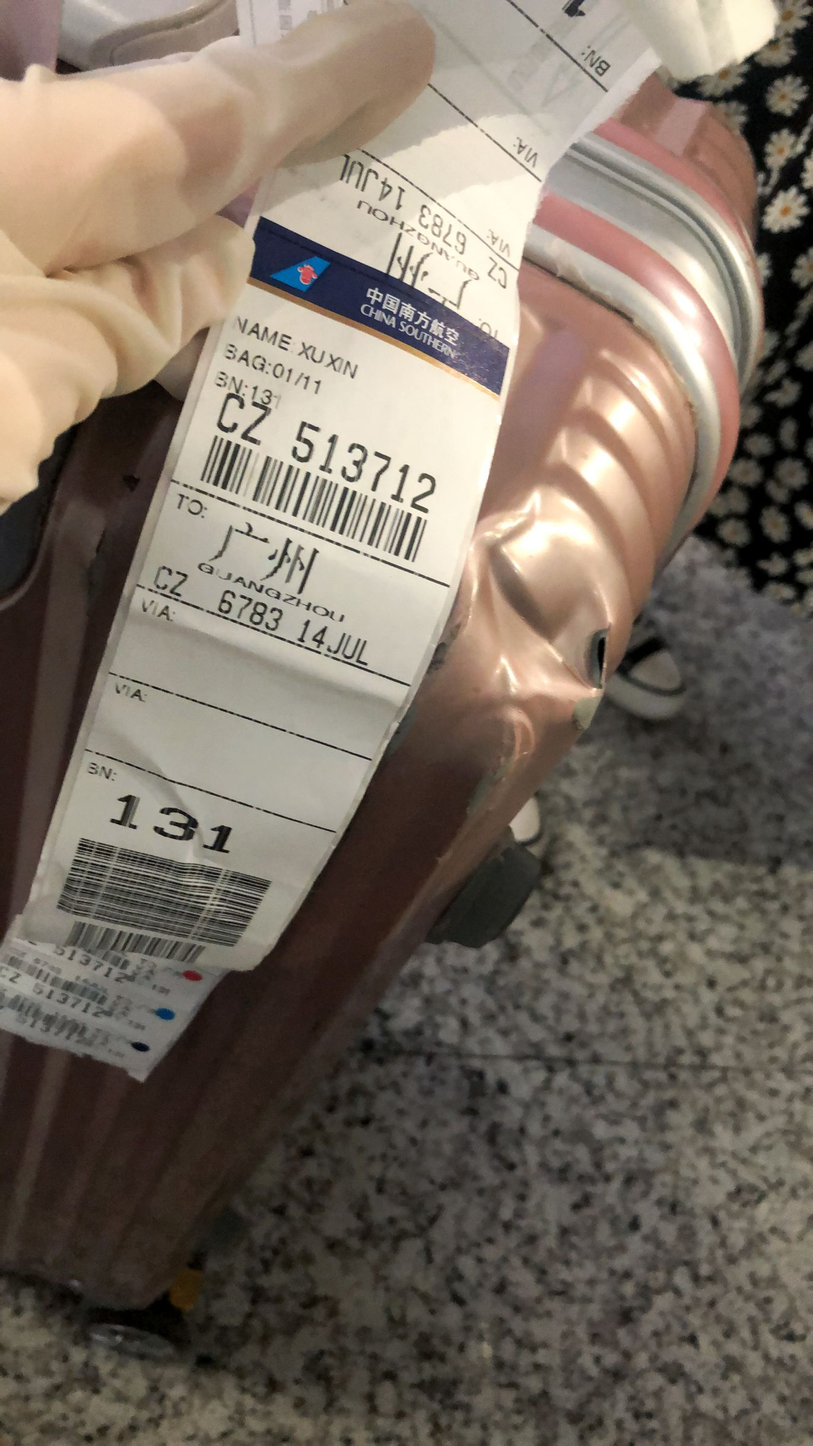rupture: (472, 512, 613, 716)
